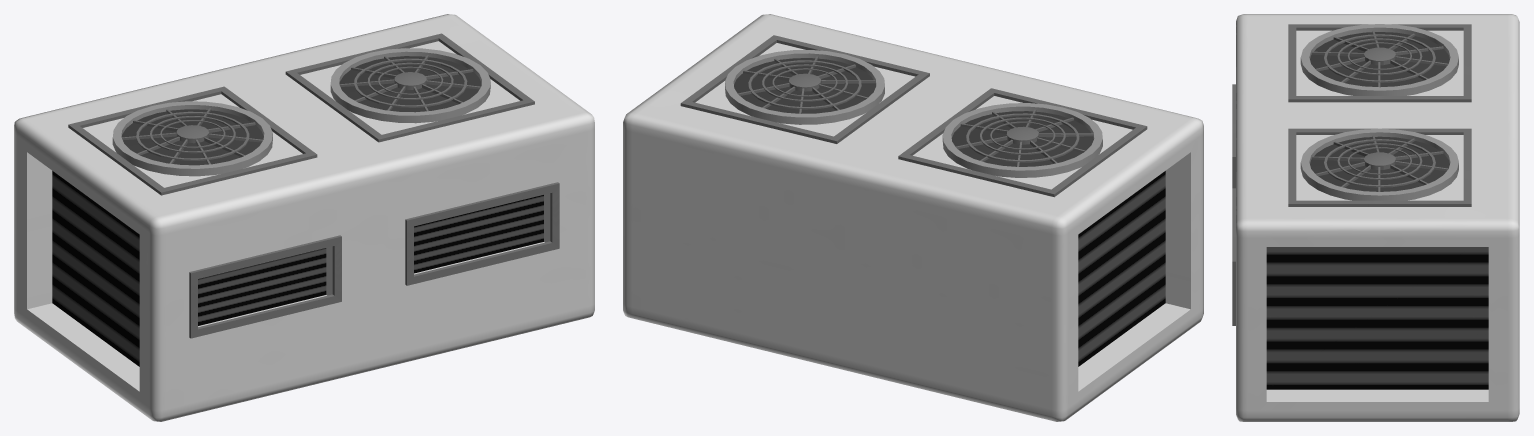
File: AC Vent 3.FBX
The picture shows the model from 3 angles, left to right: view 1: azimuth 30°, elevation 25°; view 2: azimuth 150°, elevation 25°; view 3: azimuth 270°, elevation 25°; orthographic projection.
Parts seen in each view (by area): view 1: AC Vent 3; view 2: AC Vent 3; view 3: AC Vent 3.
Part boxes in pixels (x1,y1,x2,y2): AC Vent 3: (14,14,594,421); AC Vent 3: (623,14,1203,421); AC Vent 3: (1232,14,1519,421).
Size of the model in its own units: 0.1836 by 0.0856 by 0.1047.
